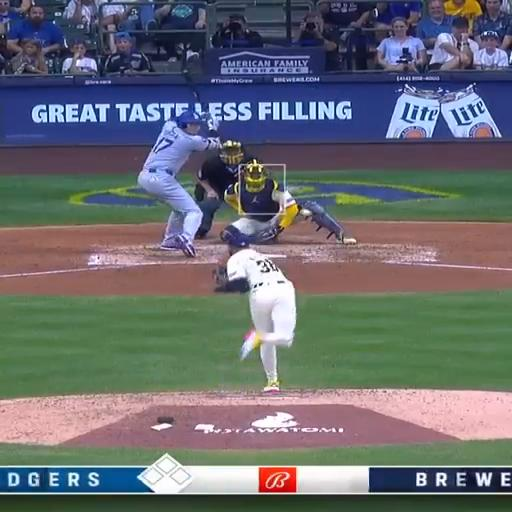bat: (181, 61, 208, 113)
